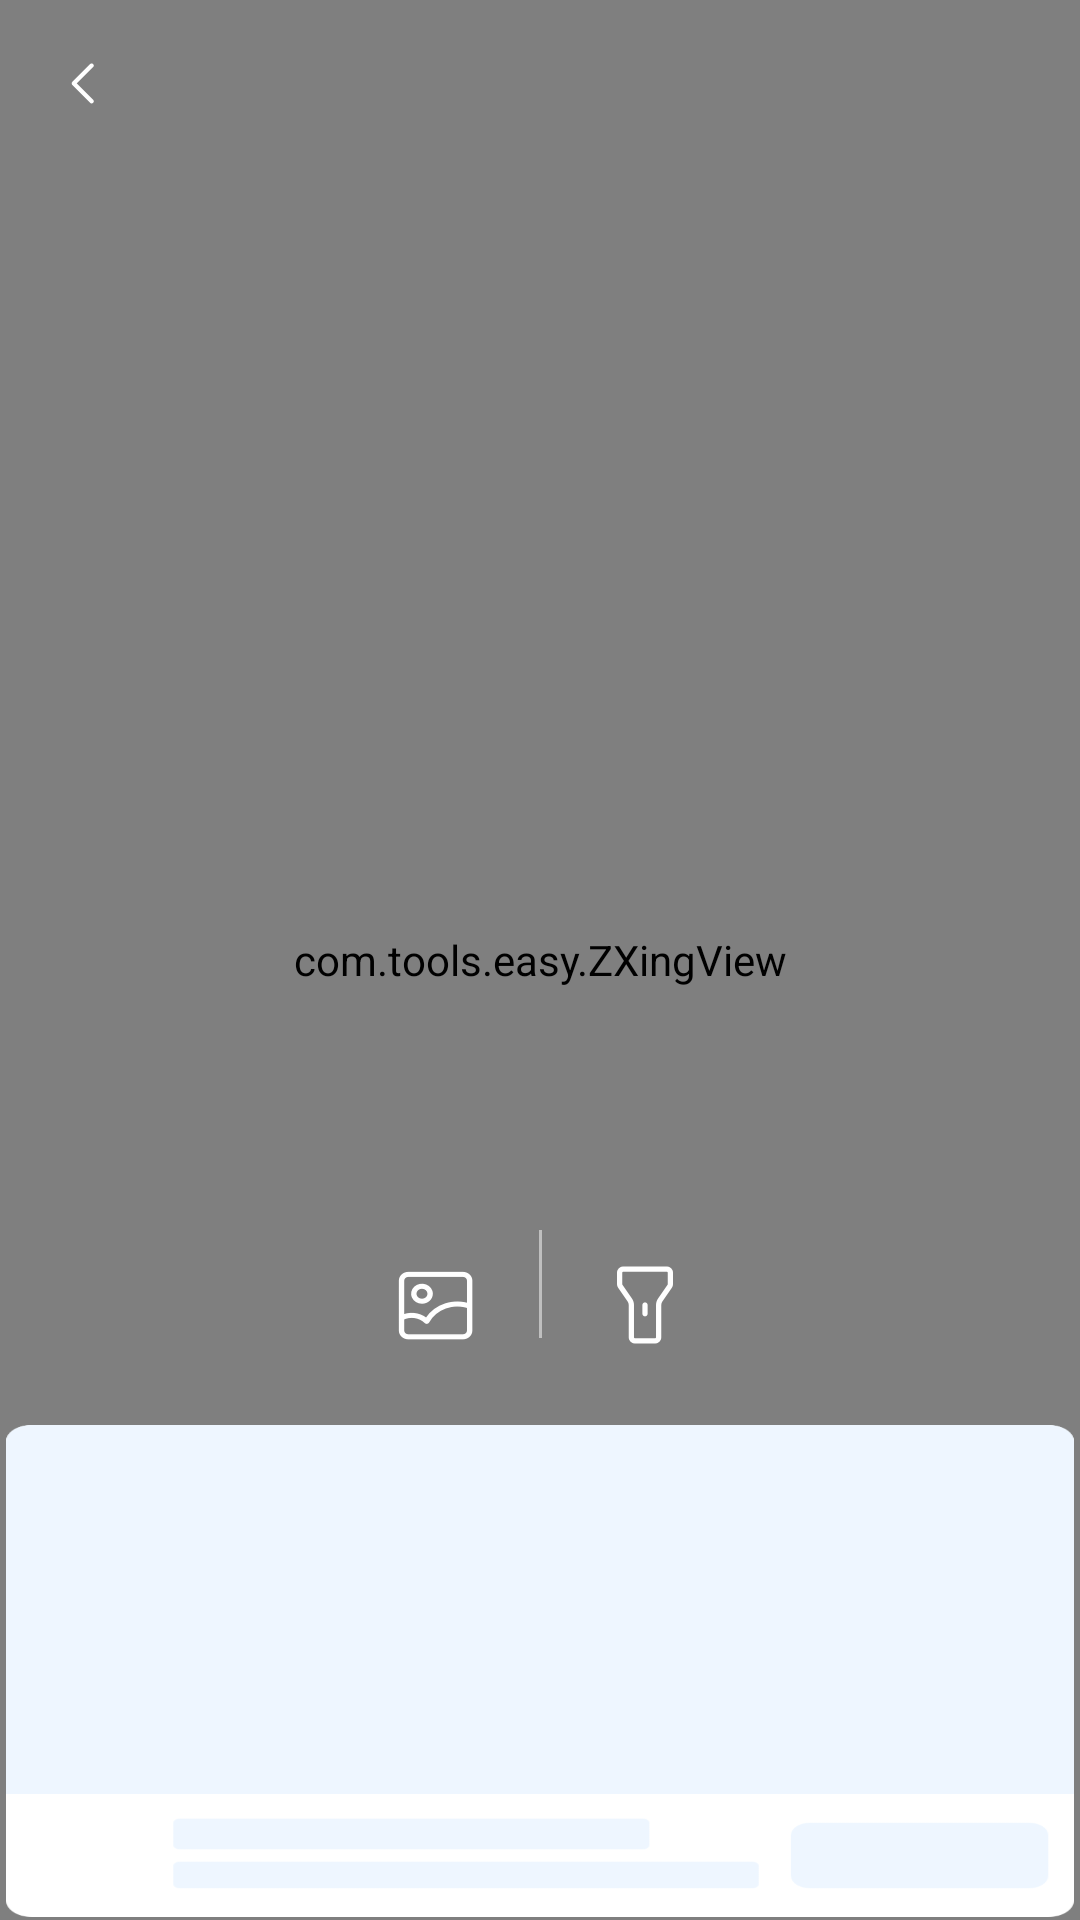

Icon click points for this 1080px×1920px phone screenshot, format (x,y):
back: (82,83)
photoes: (436,1306)
